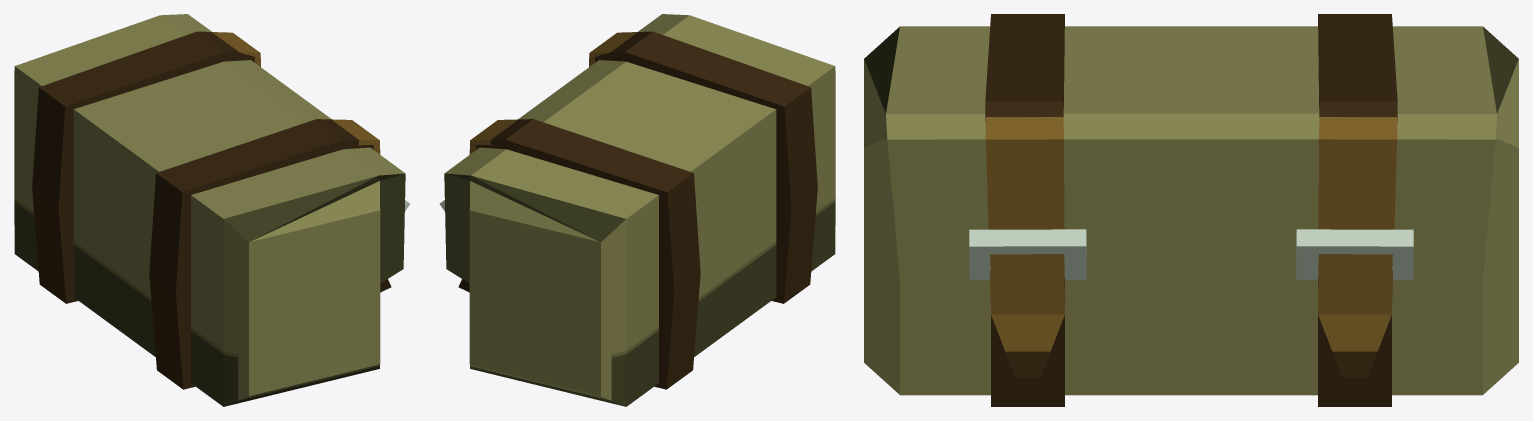
The model's file is CajaMediana2.FBX.
3 views of the same model, side by side, from view 1: azimuth 30°, elevation 25°; view 2: azimuth 150°, elevation 25°; view 3: azimuth 270°, elevation 25° (orthographic). The views are drawn at different scales.
Parts seen in each view (by area): view 1: SM_Item_Pouch_Attachment_01; view 2: SM_Item_Pouch_Attachment_01; view 3: SM_Item_Pouch_Attachment_01.
Part boxes in pixels (box(x1,y1,x2,y2)): SM_Item_Pouch_Attachment_01: box(14, 14, 410, 406); SM_Item_Pouch_Attachment_01: box(439, 14, 835, 406); SM_Item_Pouch_Attachment_01: box(864, 14, 1518, 406).
Bounding box in the file's own units: 111 × 198 × 98.97.
Materials: 1 (1 with a texture image).
